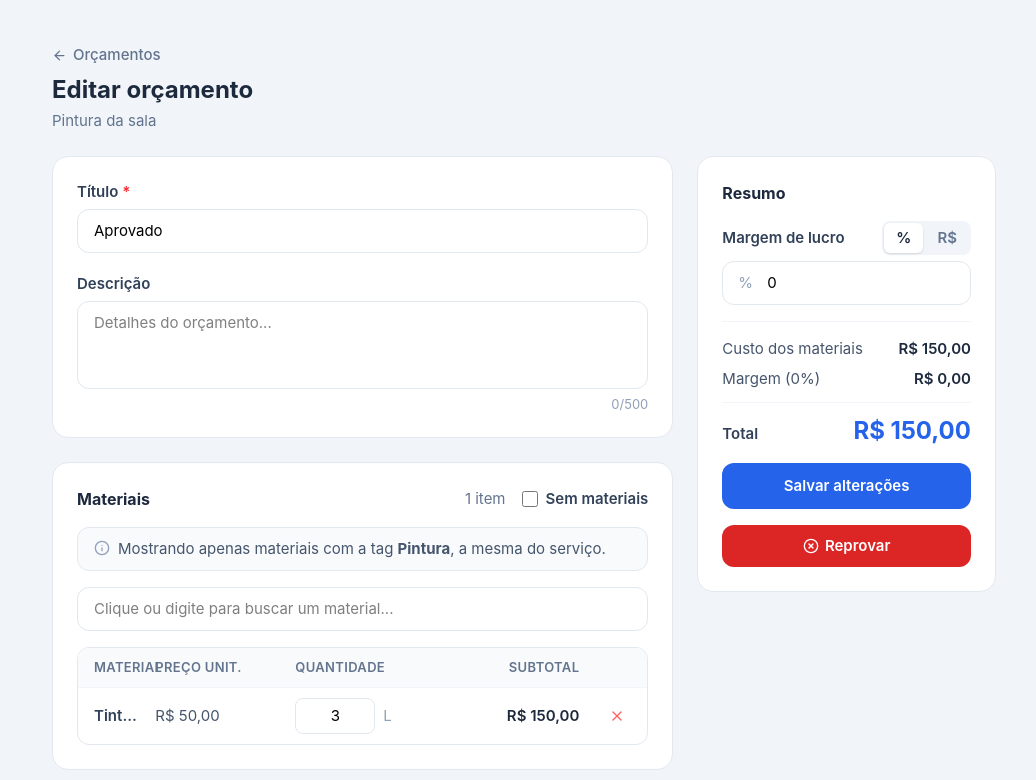
Test: editar orçamento aprovado › não acusa falta de estoque pelo que o próprio orçamento já debitou
Replace the text in the 1st field with "Aprovado (revisado)" at coordinates (363, 231), box top-left (77, 209), bottom-right (648, 253)
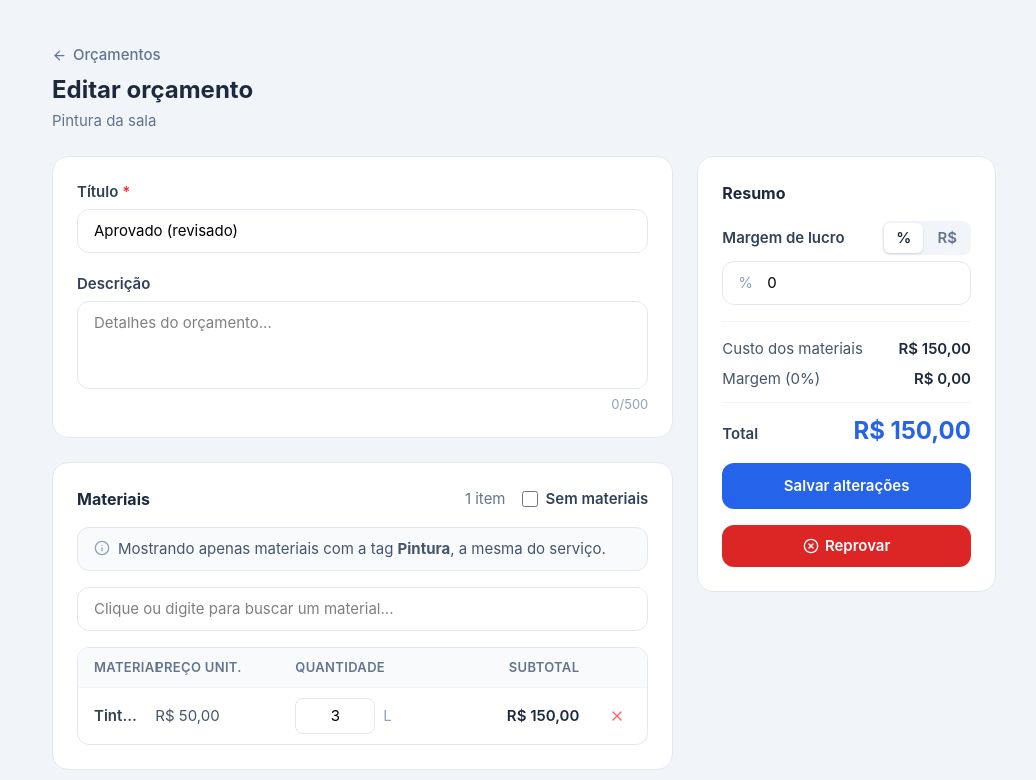
Click the button "Salvar alterações" at coordinates (847, 486), box top-left (722, 463), bottom-right (971, 509)
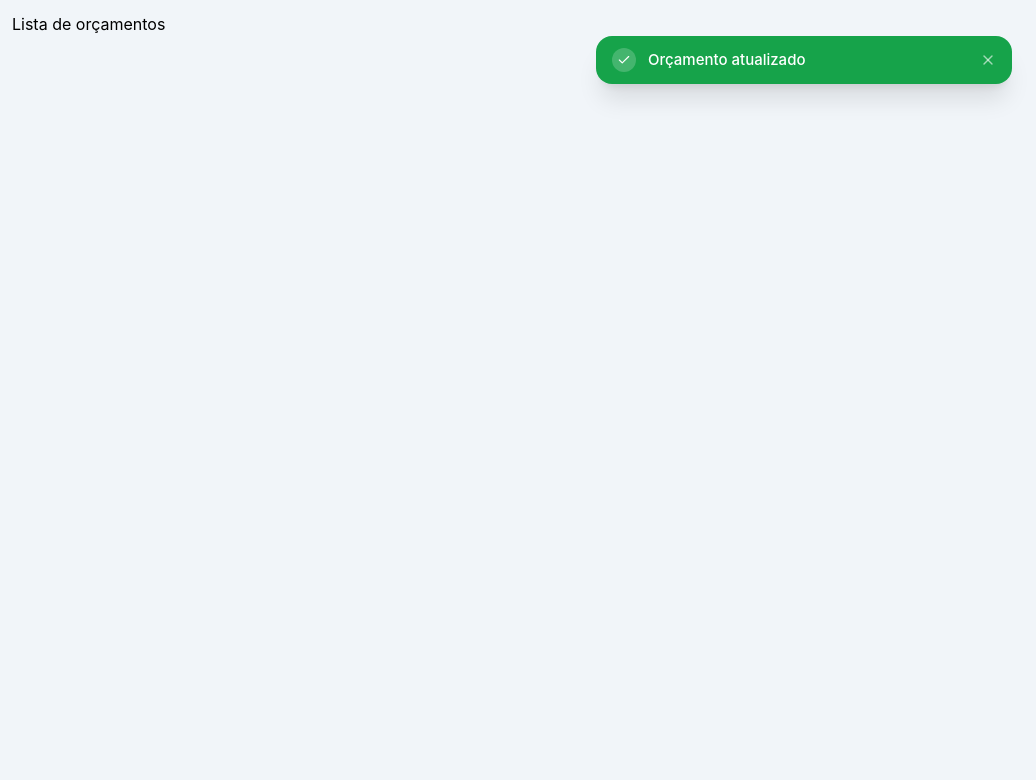
Expected: the text "Lista de orçamentos" is shown, top-left (12, 14), bottom-right (165, 34)
